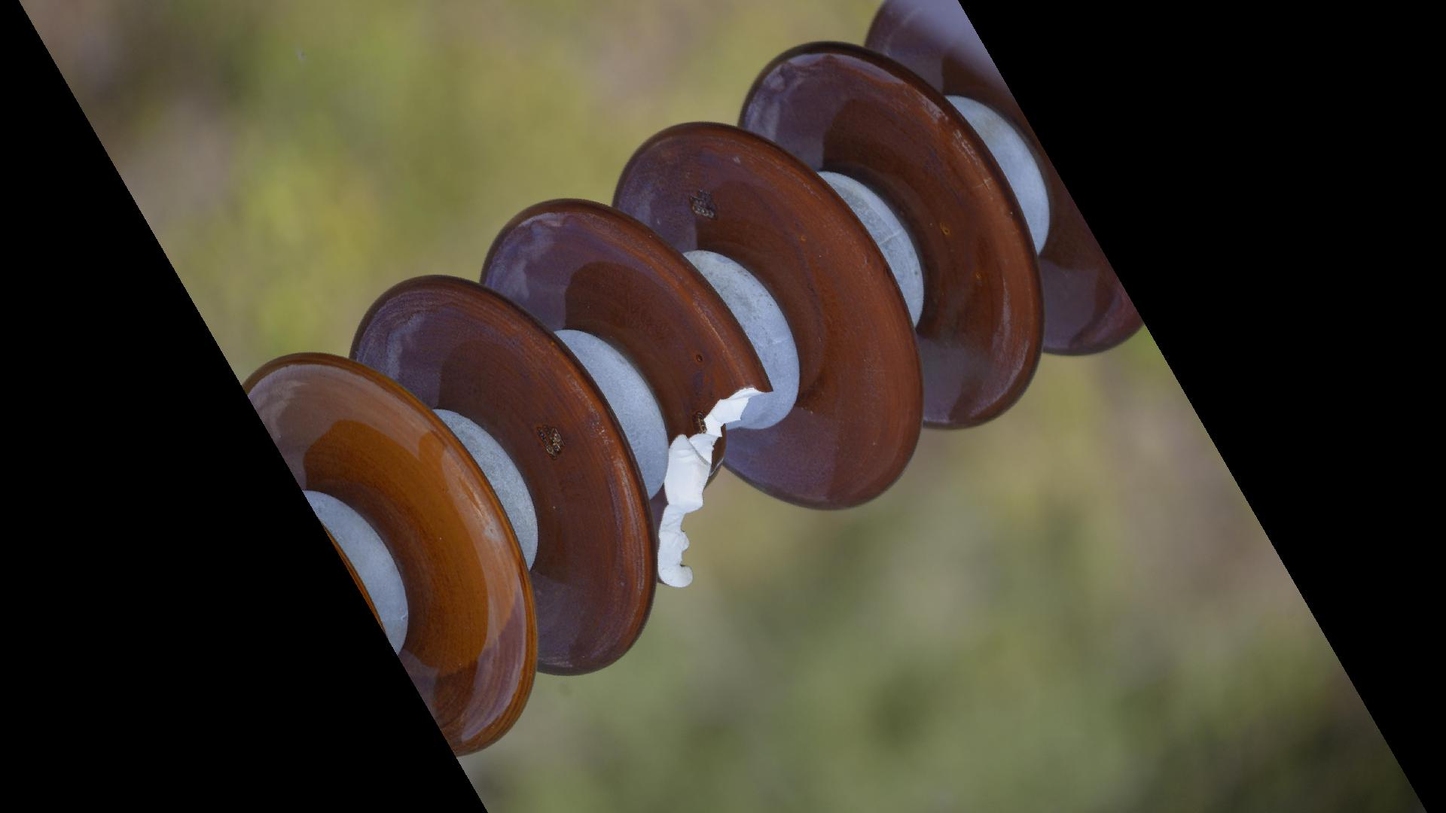insulator: (233, 1, 1153, 763)
insulator_breakage: (650, 370, 777, 594)
